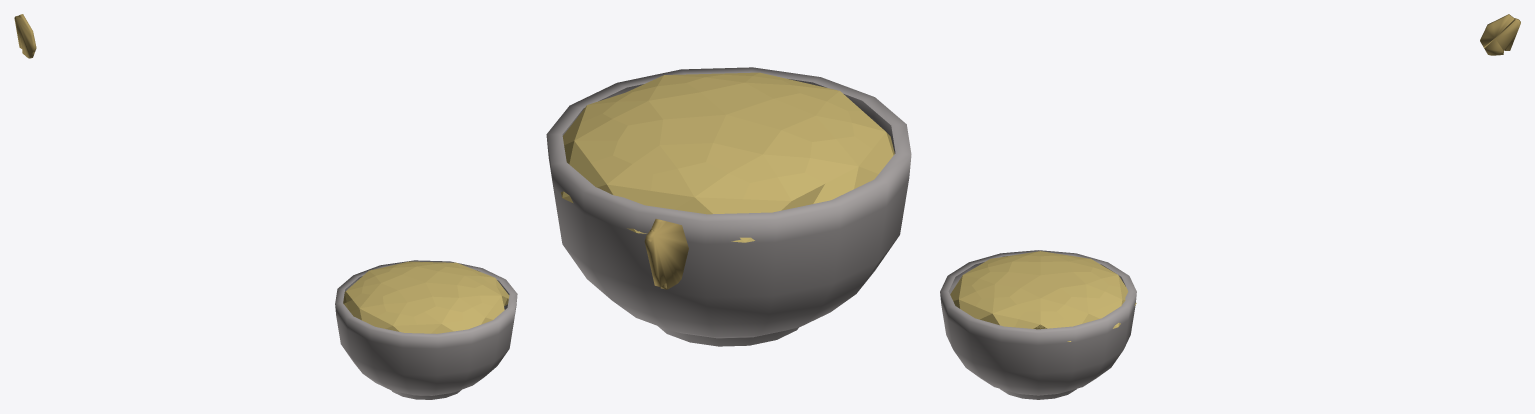
File: BowlofPorridge.fbx
3 renders of one model, left to right at view 1: azimuth 30°, elevation 25°; view 2: azimuth 150°, elevation 25°; view 3: azimuth 270°, elevation 25°, orthographic. The views are drawn at different scales.
Parts seen in each view (by area): view 1: Plane, Icosphere, Plane.001; view 2: Plane, Icosphere, Plane.001; view 3: Plane, Icosphere, Plane.001.
Part boxes in pixels (box(x1,y1,x2,y2)): Plane: box(335, 260, 517, 399); Icosphere: box(343, 261, 509, 333); Plane.001: box(14, 14, 36, 58); Plane: box(546, 67, 911, 346); Icosphere: box(561, 72, 894, 242); Plane.001: box(644, 219, 688, 289); Plane: box(940, 250, 1136, 399); Icosphere: box(950, 251, 1136, 341); Plane.001: box(1480, 14, 1520, 55).
Bounding box in the file's own units: 546 × 497 × 964.
